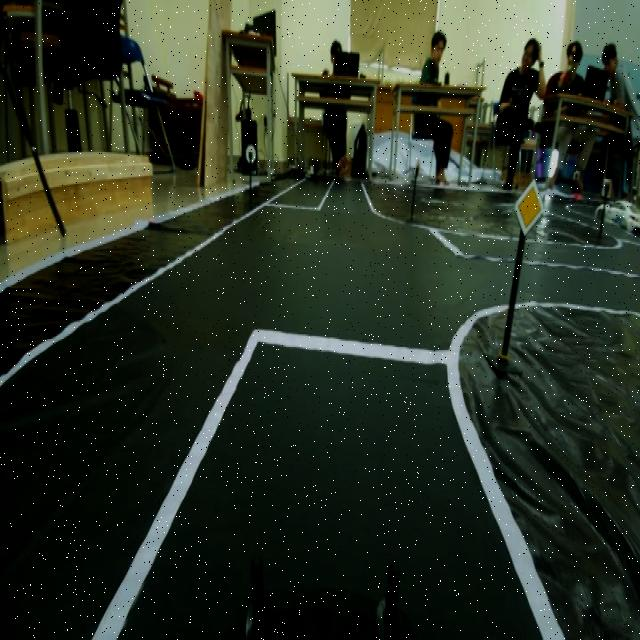priority: (508, 171, 544, 235)
